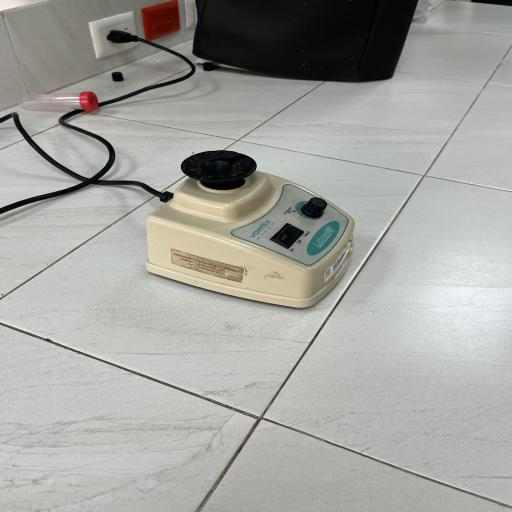Vortex_Mixer_LabNet: (133, 142, 360, 312)
